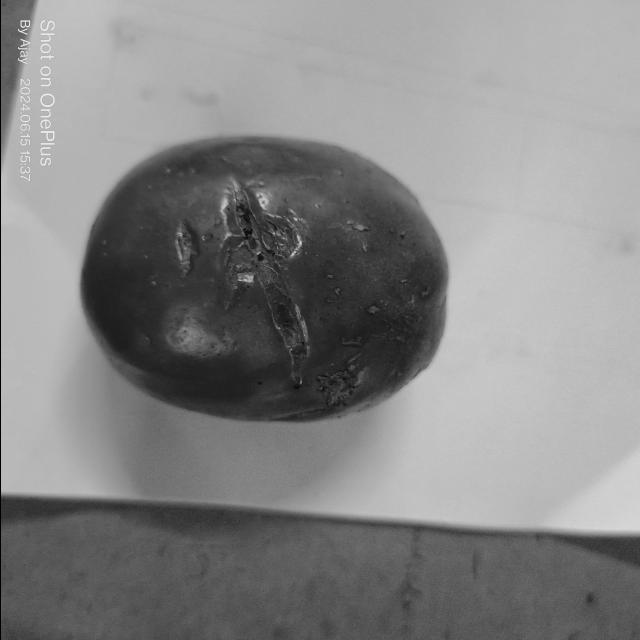Botrytis: (227, 181, 310, 389), (316, 362, 358, 412)
